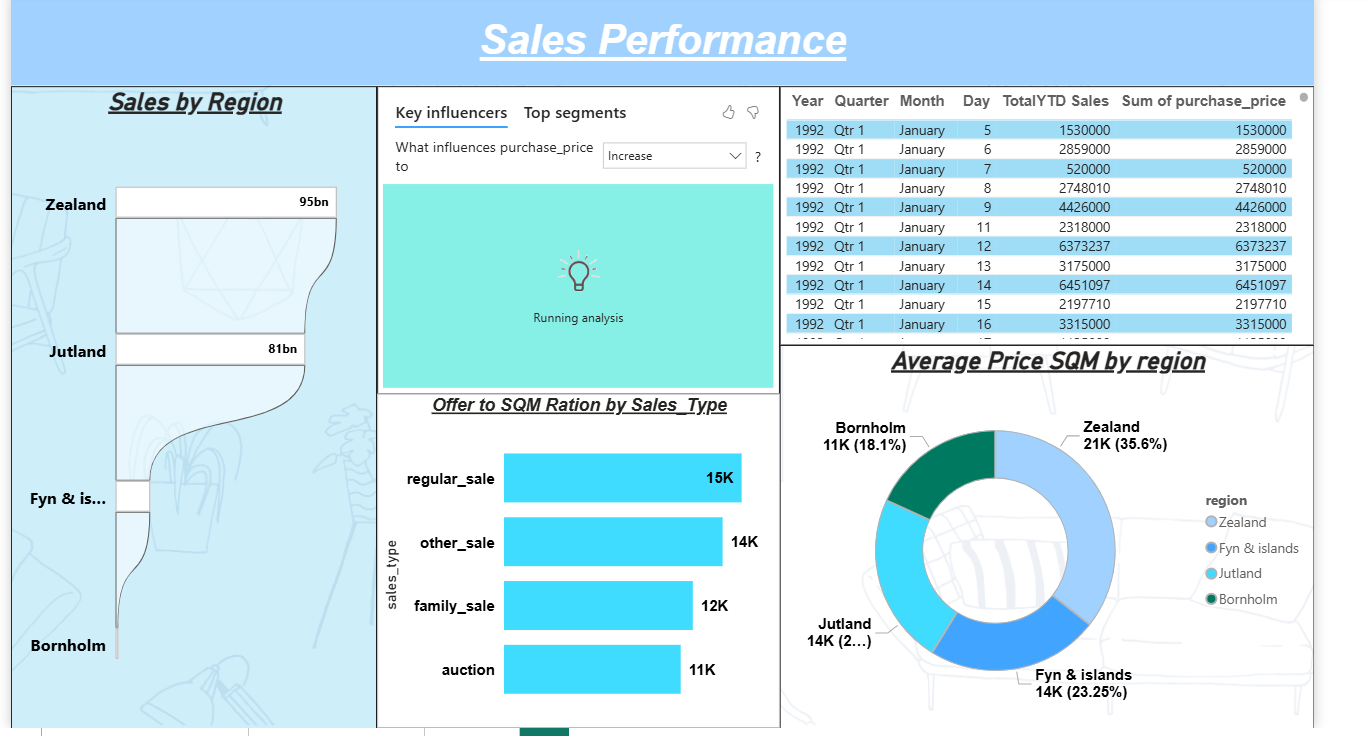

Layout of this report page (visuals, bound fields, positions):
{"tool":"powerbi","page":{"name":"Sales Performance ","canvas":[1280,720],"ordinal":1},"visuals":[{"type":"shape","box":[0,0,1279.7,89],"z":0},{"type":"barChart","title":"Sales by Region","fields":{"Y":["Measures Table.Sales by Region"],"Category":["Housing.region"]},"box":[0,89,359.5,631.8],"z":1000},{"type":"tableEx","fields":{"Values":["Housing.date.Variation.Date Hierarchy.Year","Housing.date.Variation.Date Hierarchy.Quarter","Housing.date.Variation.Date Hierarchy.Month","Housing.date.Variation.Date Hierarchy.Day","Measures Table.TotalYTD Sales","Sum(Housing.purchase_price)"]},"box":[754.6,89,525,254.5],"z":2000},{"type":"donutChart","fields":{"Y":["Measures Table.Average Price SQM"],"Category":["Housing.region"]},"box":[754.6,343.5,525,377.3],"z":3000},{"type":"keyDriversVisual","fields":{"Target":["Housing.purchase_price"],"ExplainBy":["Housing.Age"]},"box":[359.5,89,395.1,302.6],"z":4000},{"type":"barChart","title":"Offer to SQM Ration by Sales_Type","fields":{"Category":["Housing.sales_type"],"Y":["Measures Table.Offer to SQM Ration"]},"box":[360,392,395,328],"z":5000}]}

Visuals, with their boxes on the page's 1280x720 design canvas (x1, y1, x2, y2). These are canvas units, not pixel positions in the 1371x736 screenshot, which may show the page scaled, cropped or inside an application window:
shape: [0, 0, 1280, 89]
"Sales by Region" barChart: [0, 89, 360, 721]
tableEx - Housing.date.Variation.Date Hierarchy.Year x Housing.date.Variation.Date Hierarchy.Quarter: [755, 89, 1280, 344]
donutChart - Measures Table.Average Price SQM x Housing.region: [755, 344, 1280, 721]
keyDriversVisual - Housing.purchase_price x Housing.Age: [360, 89, 755, 392]
"Offer to SQM Ration by Sales_Type" barChart: [360, 392, 755, 720]
